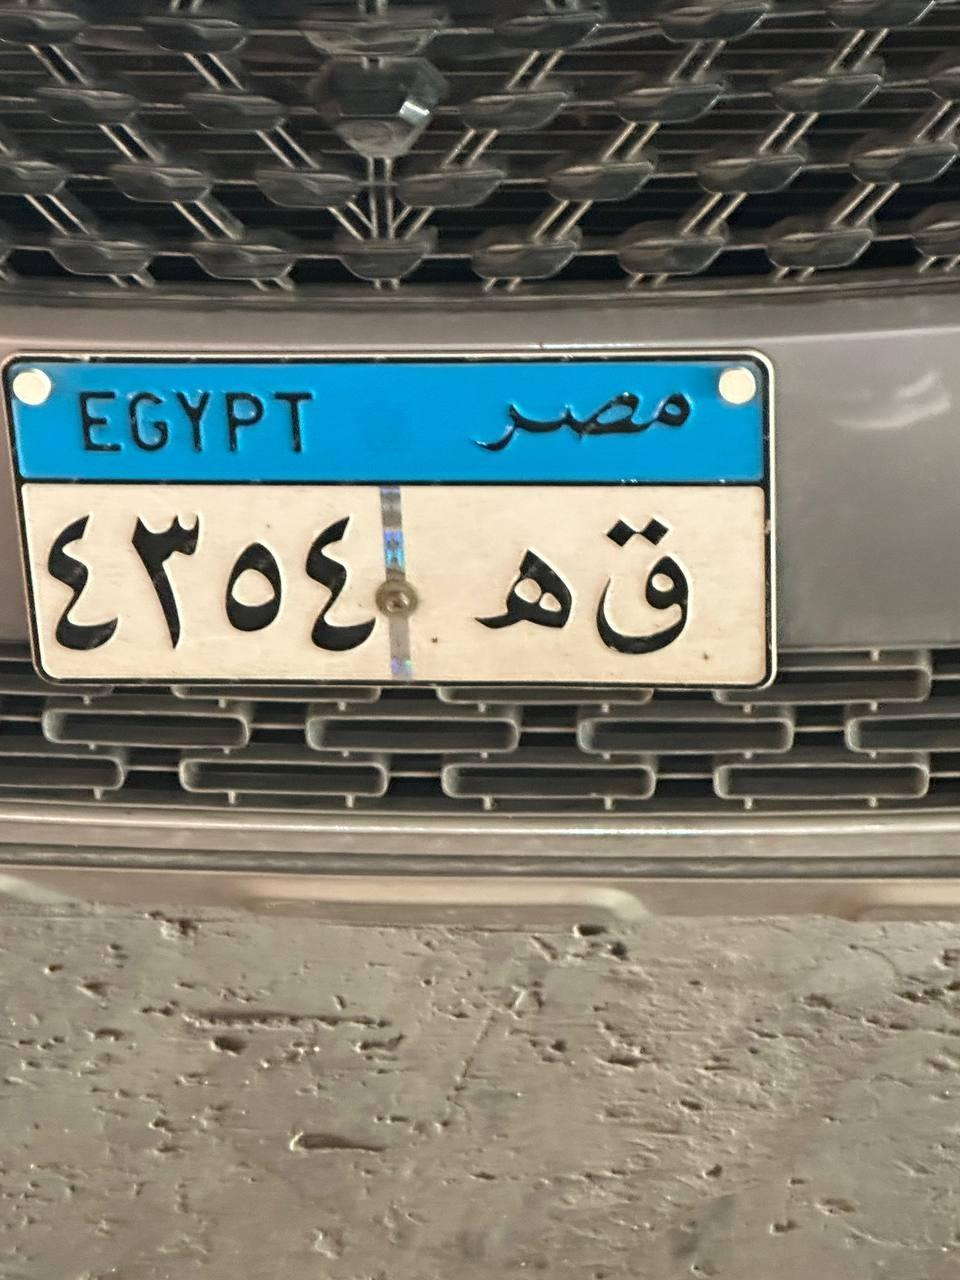3: (130, 498, 206, 666)
4: (15, 490, 123, 648), (293, 506, 393, 648)
5: (207, 532, 296, 638)
Heeh: (460, 534, 586, 658)
License Plate: (0, 344, 773, 692)
Q: (580, 496, 706, 658)
